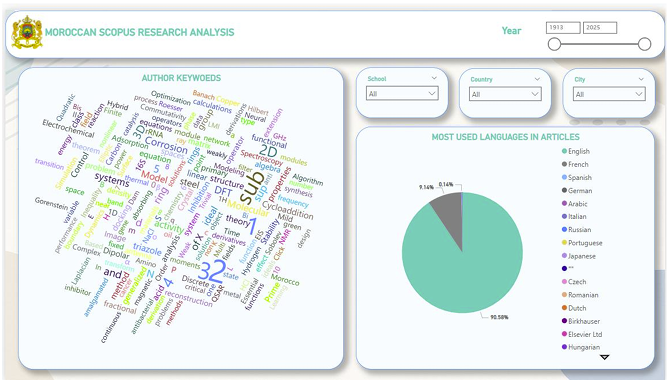

This screenshot's page, from the dashboard's own definition file:
{"tool":"powerbi","page":{"name":"Dashboard7","canvas":[1280,720],"ordinal":6},"visuals":[{"type":"slicer","fields":{"Values":["Affiliation.city"]},"box":[1081,113.4,179.5,96.4],"z":0},{"type":"slicer","fields":{"Values":["Affiliation.country"]},"box":[880.6,113.4,179.5,96.4],"z":1000},{"type":"slicer","fields":{"Values":["Affiliation.school"]},"box":[680.3,111.5,179.5,98.3],"z":2000},{"type":"WordCloud1447959067750","title":"AUTHOR KEYWOEDS","fields":{"Category":["Document.author keywords"]},"box":[24.6,111.5,631.2,585.8],"z":3000},{"type":"pieChart","title":"MOST USED LANGUAGES IN ARTICLES","fields":{"Category":["Document.language of original document"],"Y":["CountNonNull(Metadata.doc_id)"]},"box":[680.3,226.8,580.2,470.6],"z":4000},{"type":"textbox","box":[0,2,1280,92],"z":5000},{"type":"image","box":[0,0,84.5,84.5],"z":6000},{"type":"textbox","box":[71.8,26.5,393.1,41.6],"z":7000},{"type":"textbox","box":[958,24,68,34.7],"z":8000},{"type":"slicer","fields":{"Values":["Metadata.year"]},"box":[1026,3.3,244,86.7],"z":9000}]}

Visuals, with their boxes in screenshot pixels (x1, y1, x2, y2), scaled from the page's 1280x720 canvas onto the 667x380 screenshot:
slicer - Affiliation.city: bbox=[563, 60, 657, 111]
slicer - Affiliation.country: bbox=[459, 60, 552, 111]
slicer - Affiliation.school: bbox=[355, 59, 448, 111]
"AUTHOR KEYWOEDS" WordCloud1447959067750: bbox=[13, 59, 342, 368]
"MOST USED LANGUAGES IN ARTICLES" pieChart: bbox=[355, 120, 657, 368]
textbox: bbox=[0, 1, 666, 50]
image: bbox=[0, 0, 44, 45]
textbox: bbox=[37, 14, 242, 36]
textbox: bbox=[499, 13, 535, 31]
slicer - Metadata.year: bbox=[535, 2, 662, 48]
